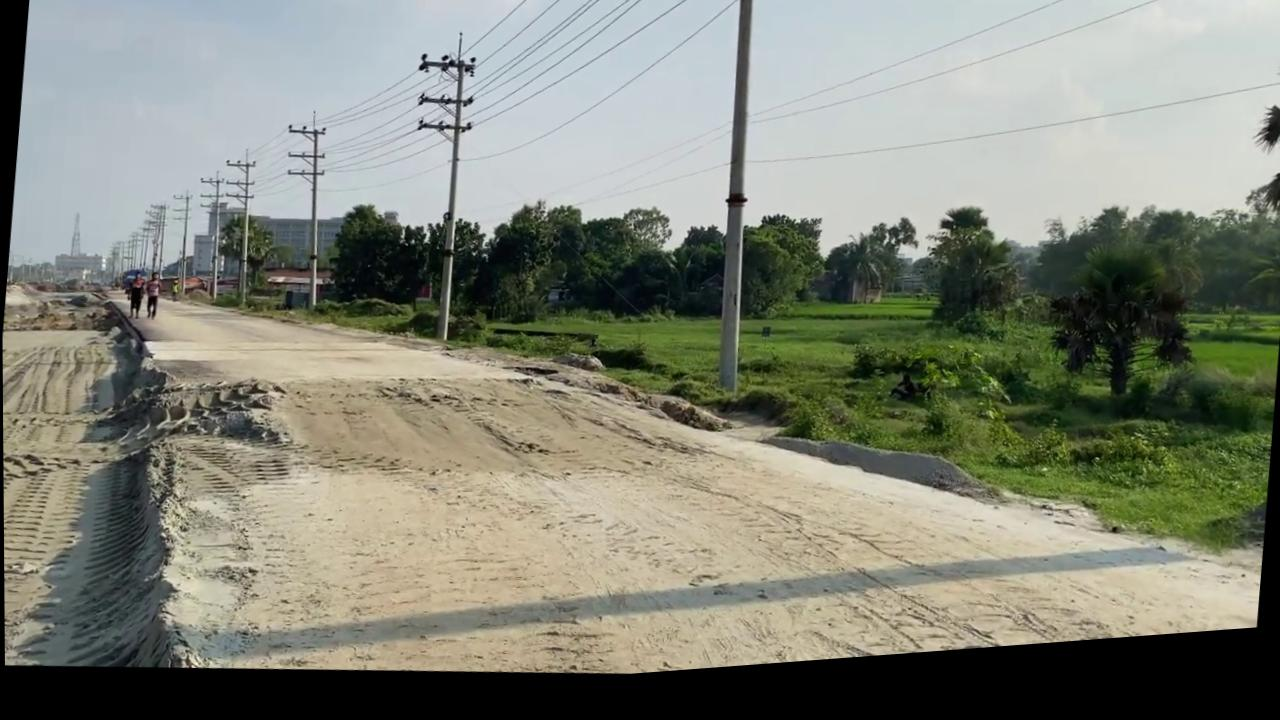Pole: (702, 0, 774, 407), (429, 39, 474, 348)
Rickshaw: (2, 212, 1278, 720)
Traffic-sign: (1038, 246, 1203, 426), (916, 212, 1026, 348), (1243, 44, 1280, 240), (213, 212, 278, 301)
